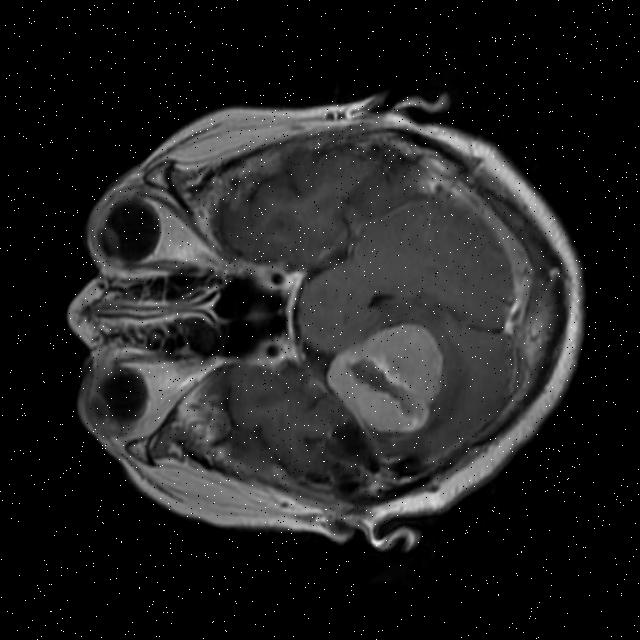Meningioma: (315, 306, 451, 447)
